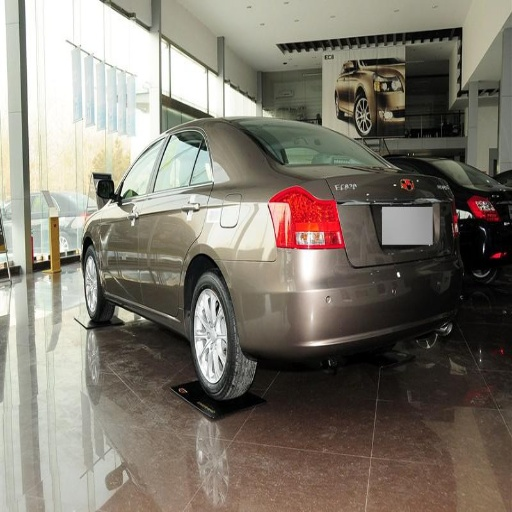back_bumper: (231, 241, 467, 366)
back_glass: (238, 124, 370, 164)
back_left_door: (142, 125, 213, 317)
